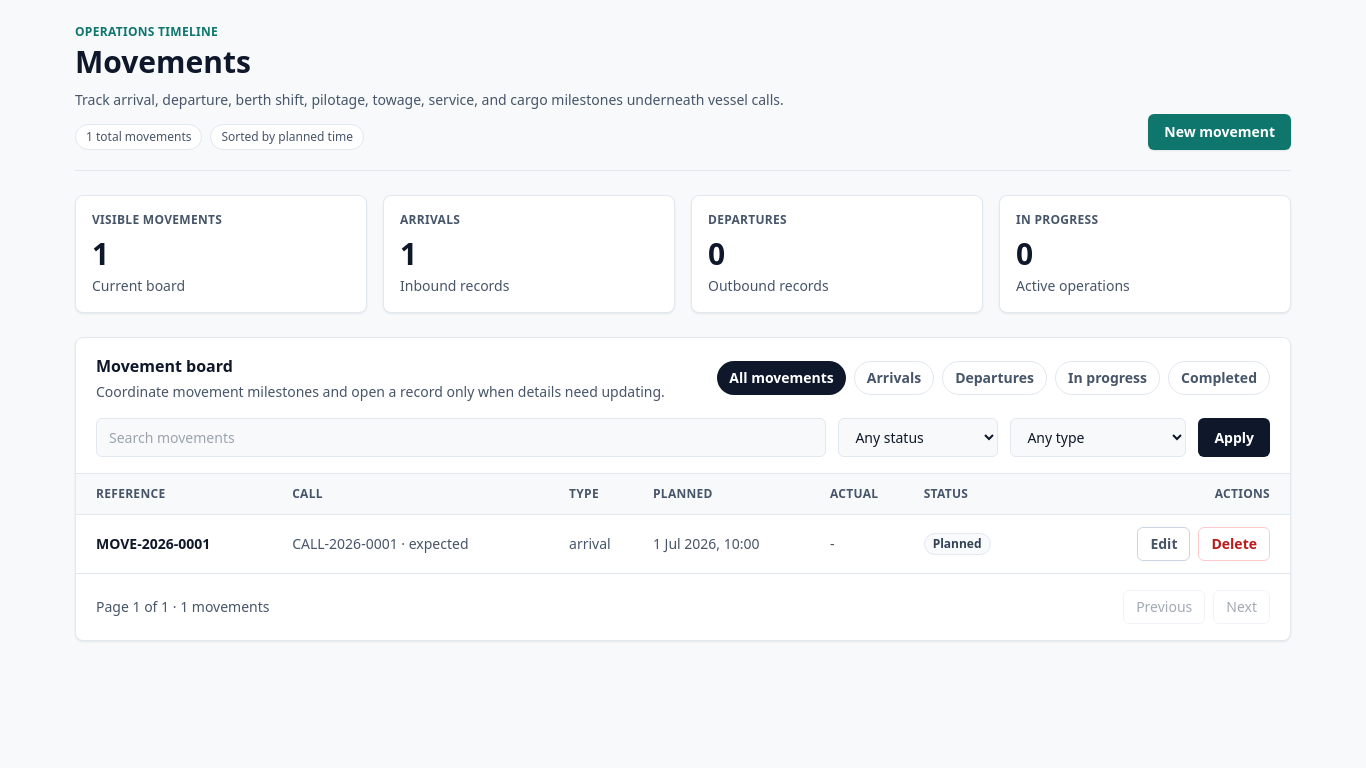
Test: MovementsPage › opens the movement editor from the workspace action
Expected: the text "MOVE-2026-0001" is shown, x1=96 y1=534 x2=210 y2=553
Expected: the button "Create movement" is not shown
Click the button "New movement". click: (1220,132)
box: x1=1148 y1=114 x2=1291 y2=150
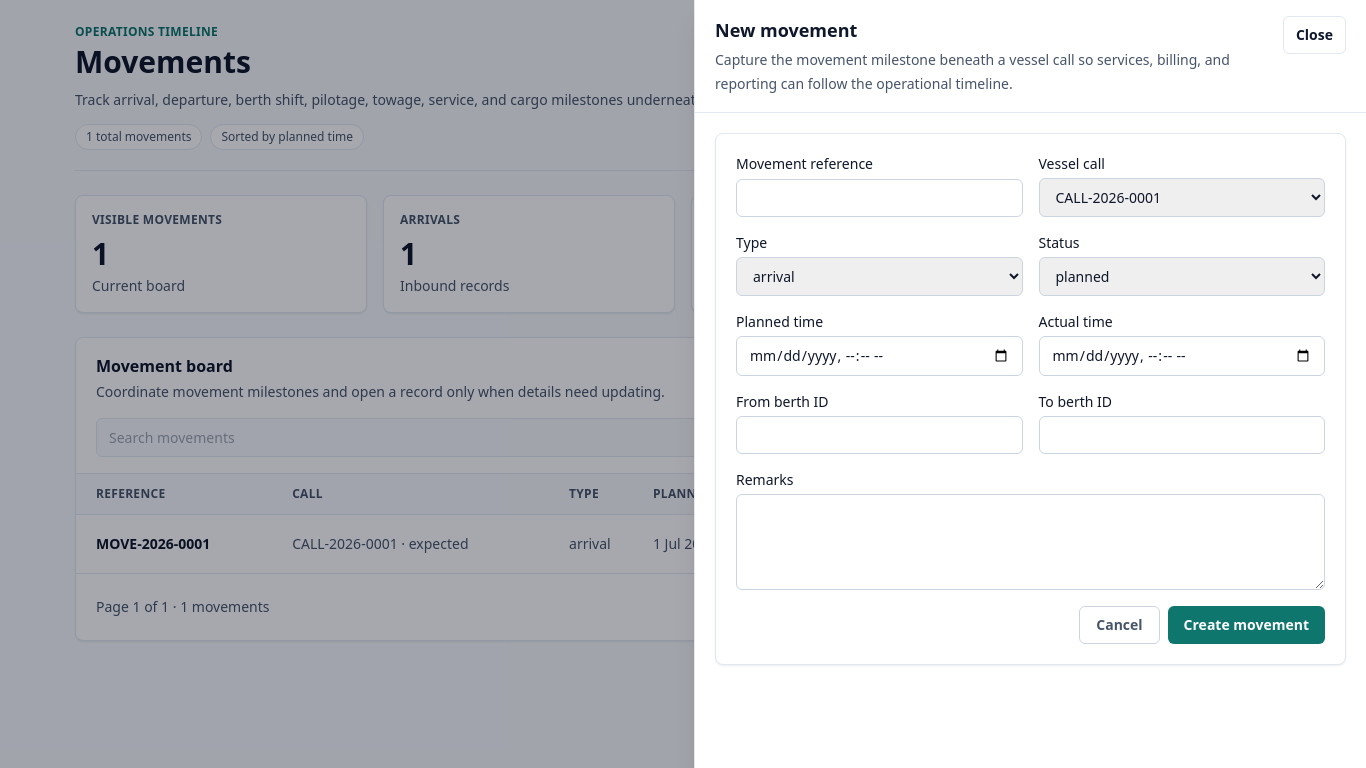
Expected: the heading "New movement" is shown, x1=715 y1=18 x2=857 y2=42
Expected: the button "Create movement" is shown, x1=1168 y1=606 x2=1325 y2=644
